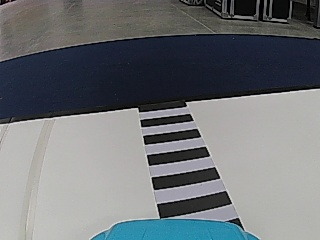CrossWalk: (137, 105, 240, 218)
